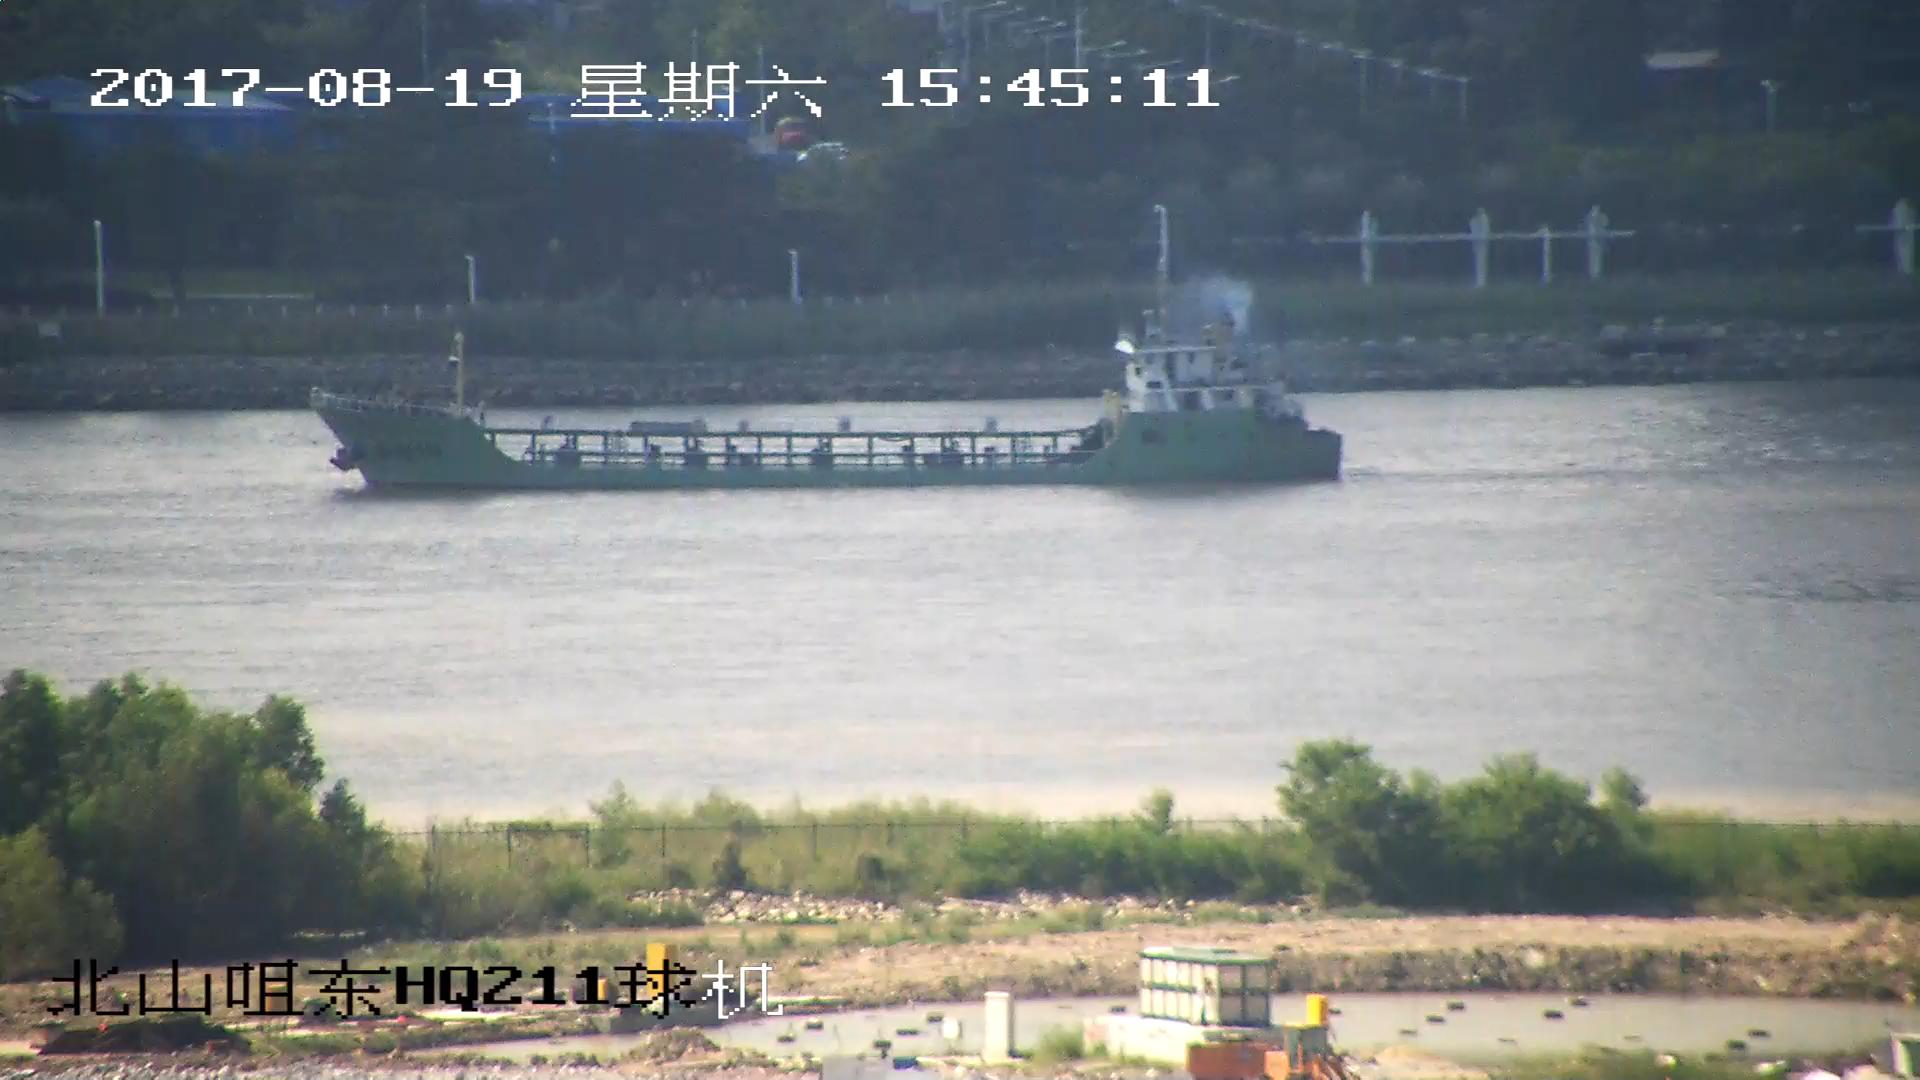general cargo ship: (311, 270, 1343, 483)
